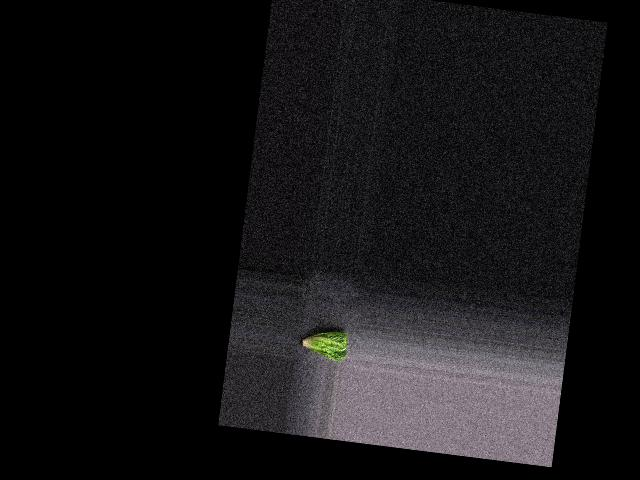lettuce: (297, 325, 349, 363)
